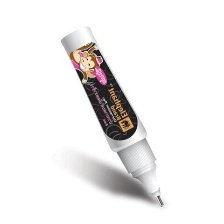correction_fluid: (60, 24, 168, 209)
